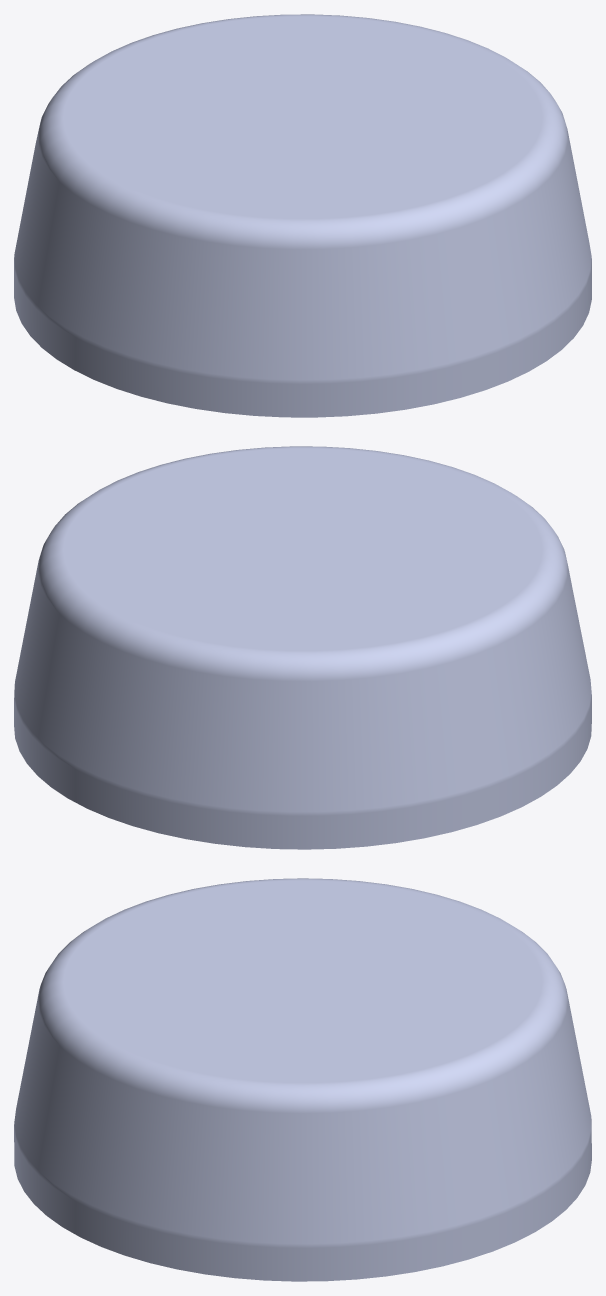
The model's file is Flat_Key_Cap.obj.
3 views of the same model, one above another, from view 1: azimuth 30°, elevation 25°; view 2: azimuth 150°, elevation 25°; view 3: azimuth 270°, elevation 25° (orthographic).
Parts seen in each view (by area): view 1: Solid1; view 2: Solid1; view 3: Solid1.
Part boxes in pixels (x1,y1,x2,y2): Solid1: [14, 14, 591, 417]; Solid1: [14, 446, 591, 849]; Solid1: [14, 878, 591, 1281].
Bounding box in the file's own units: 22.11 × 7.5 × 22.12.
